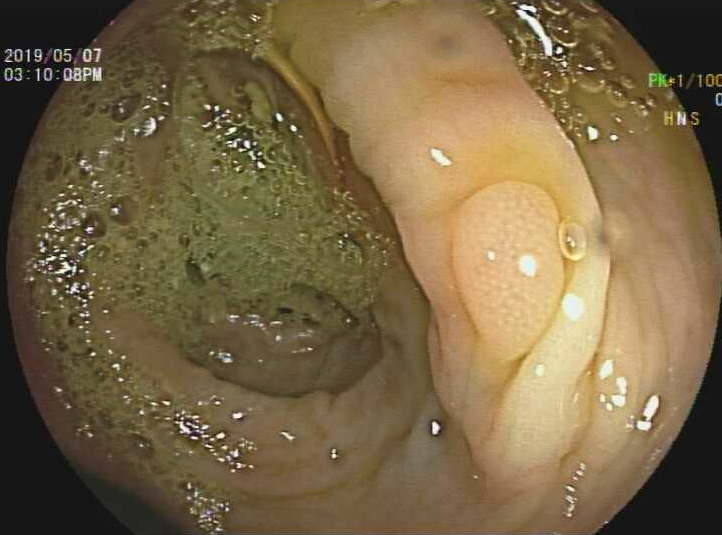others: (448, 178, 570, 359)
